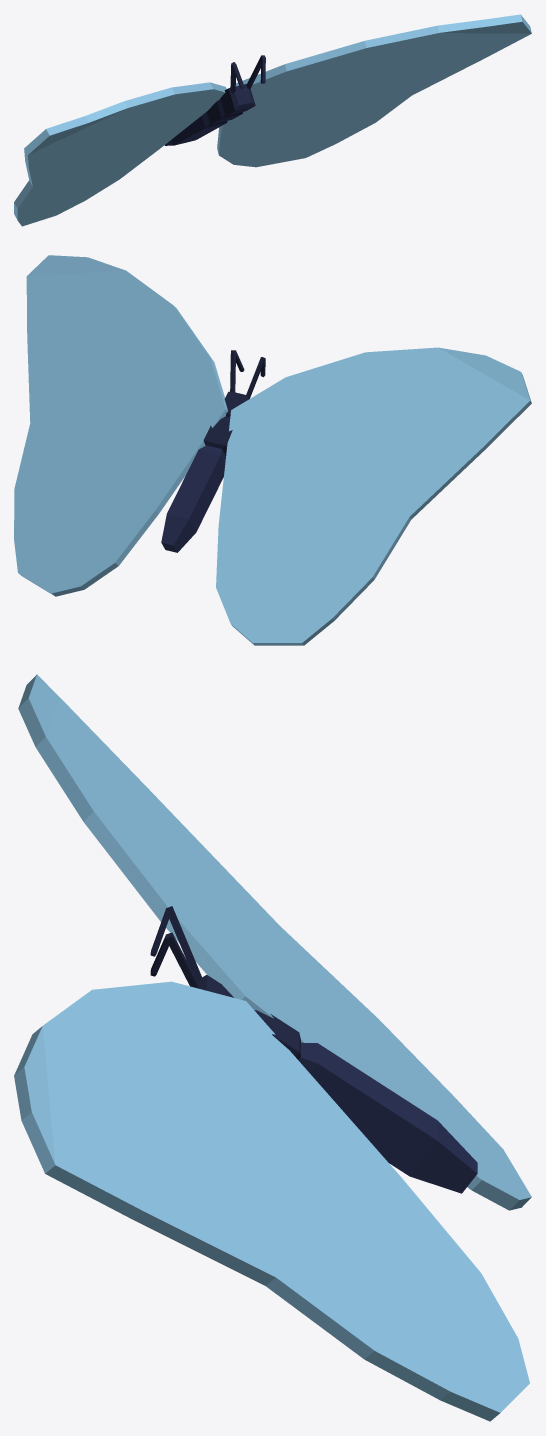
File: ButterflyTextured.glb
3 views of the same model, one above another, from view 1: azimuth 30°, elevation 25°; view 2: azimuth 150°, elevation 25°; view 3: azimuth 270°, elevation 25° (orthographic). The views are drawn at different scales.
Visible parts, largest first — view 1: Cube.004, Cube.003, Cube, Cube.002, Cube.001, Cube.006, Cube.005; view 2: Cube.003, Cube.004, Cube.002, Cube.001; view 3: Cube.004, Cube.003, Cube.002, Cube.005, Cube.006.
Boxes of the visible parts, x1=… form: Cube.004: x1=217, y1=14, x2=531, y2=167; Cube.003: x1=14, y1=82, x2=226, y2=226; Cube: x1=220, y1=84, x2=255, y2=115; Cube.002: x1=164, y1=112, x2=227, y2=145; Cube.001: x1=206, y1=99, x2=242, y2=124; Cube.006: x1=246, y1=55, x2=265, y2=89; Cube.005: x1=230, y1=62, x2=244, y2=93; Cube.003: x1=216, y1=347, x2=531, y2=645; Cube.004: x1=14, y1=255, x2=227, y2=596; Cube.002: x1=161, y1=445, x2=225, y2=552; Cube.001: x1=203, y1=416, x2=232, y2=455; Cube.004: x1=14, y1=981, x2=529, y2=1421; Cube.003: x1=18, y1=674, x2=531, y2=1210; Cube.002: x1=298, y1=1042, x2=477, y2=1193; Cube.005: x1=150, y1=906, x2=202, y2=980; Cube.006: x1=150, y1=932, x2=200, y2=988.
Size of the model in its own units: 18.07 by 7.54 by 8.48.
